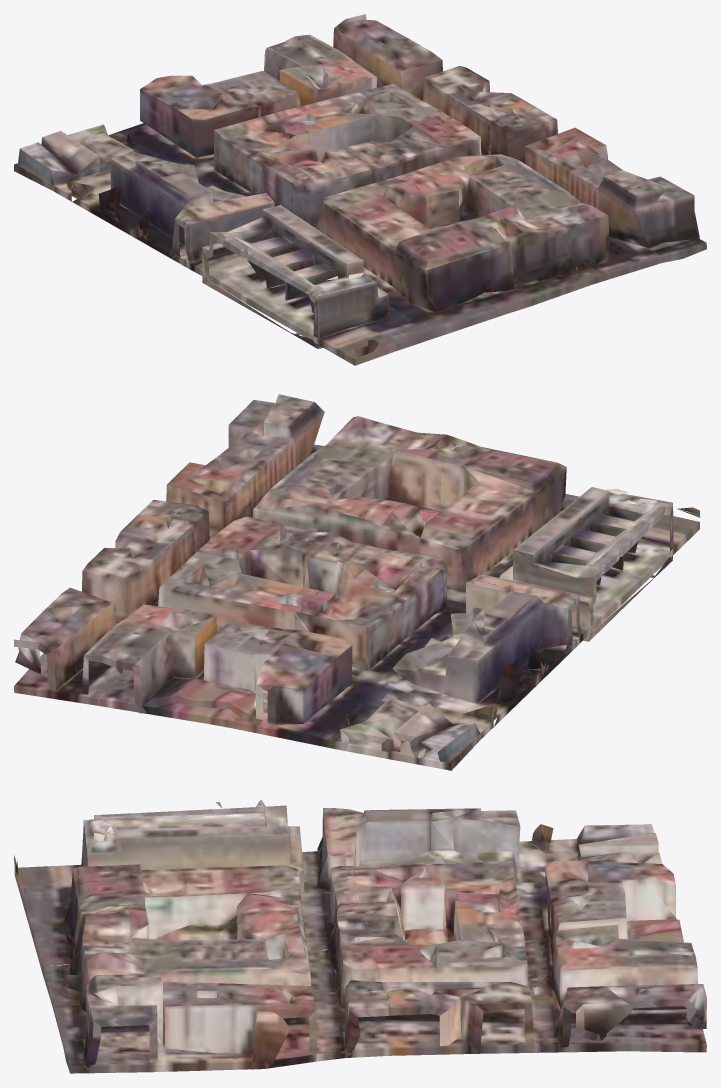
3 renders of one model, top to bottom at view 1: azimuth 30°, elevation 25°; view 2: azimuth 150°, elevation 25°; view 3: azimuth 270°, elevation 25°, orthographic. The views are drawn at different scales.
Parts seen in each view (by area): view 1: Mesh_0; view 2: Mesh_0; view 3: Mesh_0.
Part boxes in pixels (x1=…): Mesh_0: x1=14, y1=14, x2=706, y2=365; Mesh_0: x1=14, y1=394, x2=700, y2=770; Mesh_0: x1=14, y1=799, x2=706, y2=1073.
Size of the model in its own units: 266 by 43.7 by 330.
Materials: 1 (1 with a texture image).
